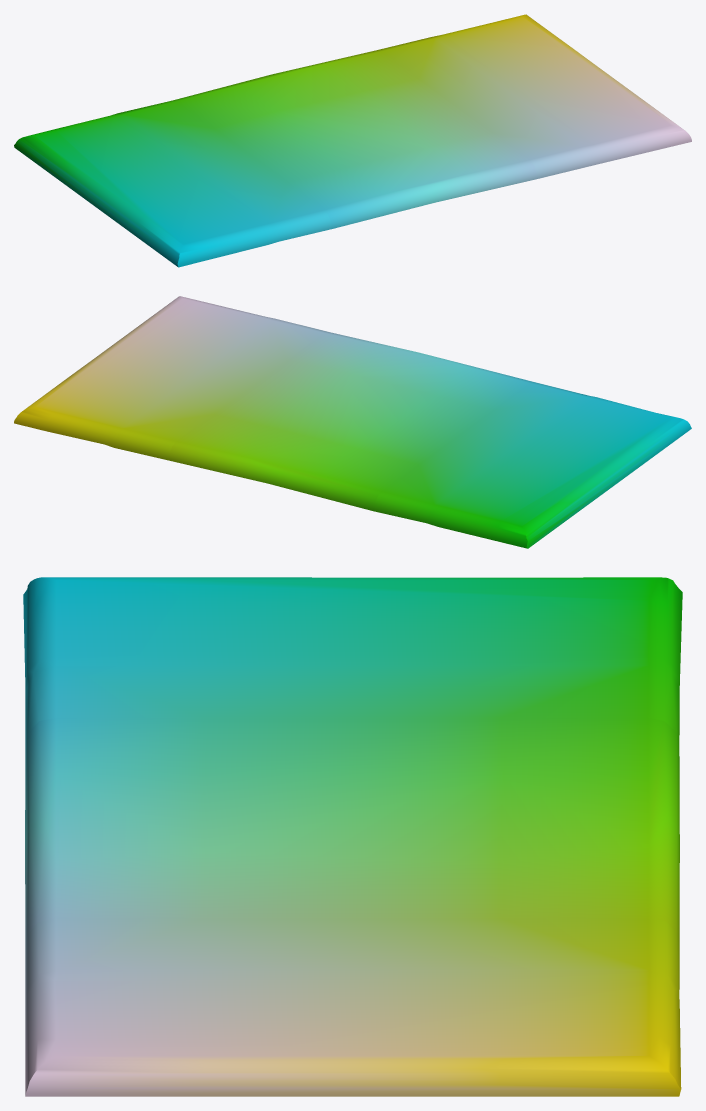
Rendered from SM_ROAD_19_10_0_27_meshed_inter.FBX.
3 renders of one model, top to bottom at view 1: azimuth 30°, elevation 25°; view 2: azimuth 150°, elevation 25°; view 3: azimuth 270°, elevation 25°, orthographic. The views are drawn at different scales.
Visible parts, largest first — view 1: SM_ROAD_19_10_0_27_meshed_inter; view 2: SM_ROAD_19_10_0_27_meshed_inter; view 3: SM_ROAD_19_10_0_27_meshed_inter.
Part boxes in pixels (box(x1,y1,x2,y2)): SM_ROAD_19_10_0_27_meshed_inter: box(14, 14, 691, 267); SM_ROAD_19_10_0_27_meshed_inter: box(14, 296, 691, 548); SM_ROAD_19_10_0_27_meshed_inter: box(23, 577, 682, 1096).
Size of the model in its own units: 2004 by 1113 by 57.58.
